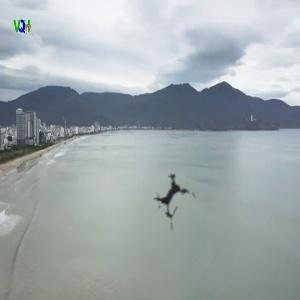drone: (125, 150, 223, 248)
